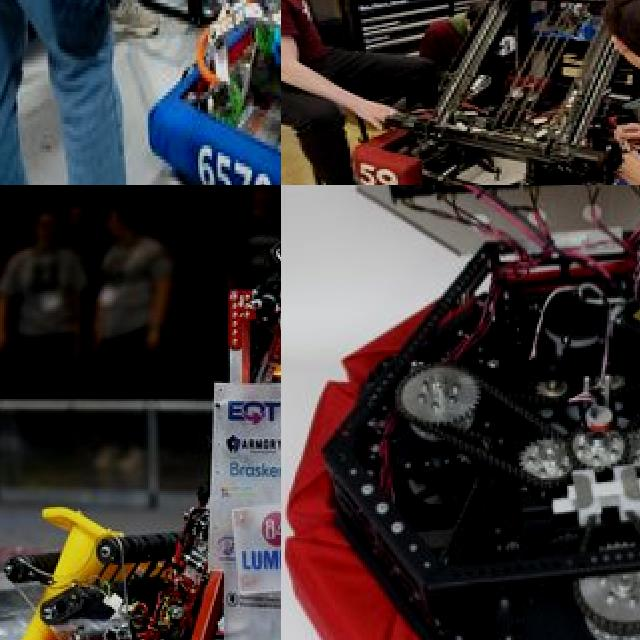FRC-Robots: (281, 185, 640, 640), (0, 185, 281, 640), (298, 0, 640, 185), (110, 0, 281, 185)
